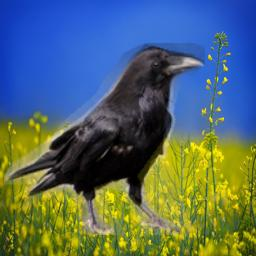Crow: (4, 43, 205, 235)
